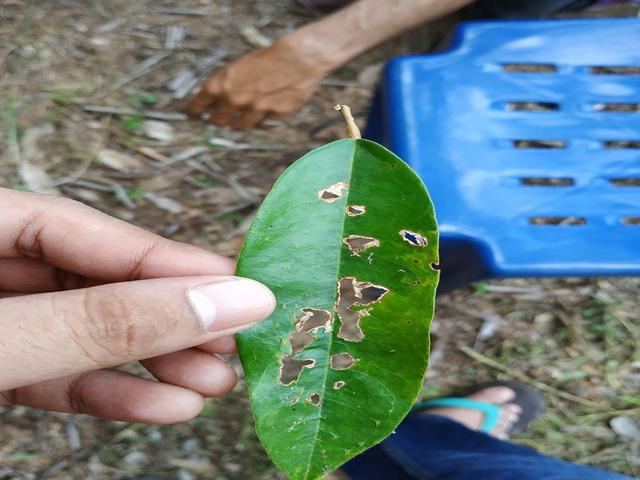blight spot: (271, 273, 390, 412), (335, 231, 381, 260), (389, 225, 430, 252), (318, 181, 343, 204), (343, 199, 370, 220)
